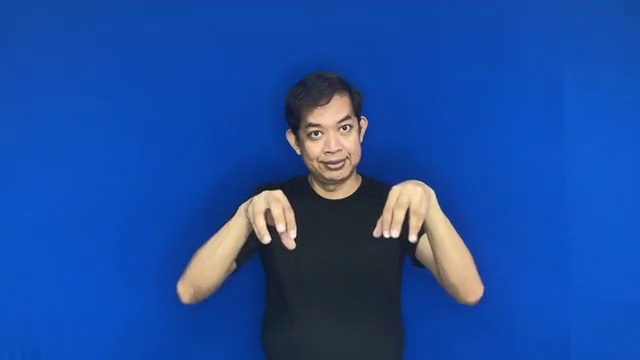egg: (230, 174, 436, 249)
